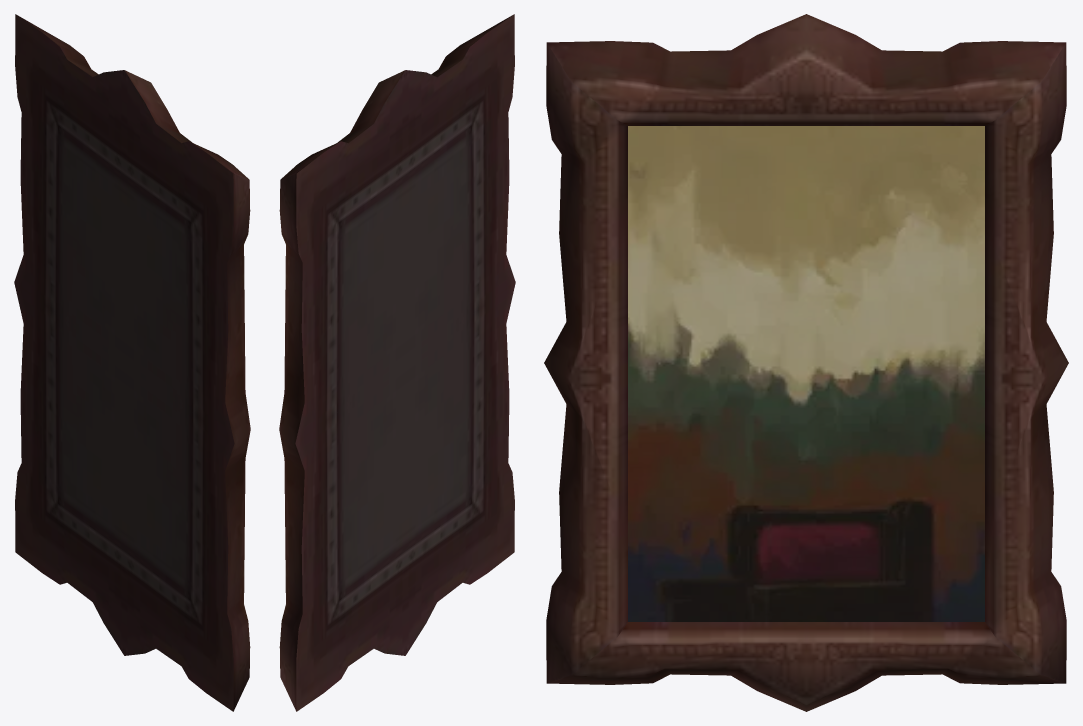
3 views of the same model, side by side, from view 1: azimuth 30°, elevation 25°; view 2: azimuth 150°, elevation 25°; view 3: azimuth 270°, elevation 25° (orthographic). The views are drawn at different scales.
Size of the model in its own units: 0.1608 by 3.36 by 2.29.
5 materials, 5 textured.
